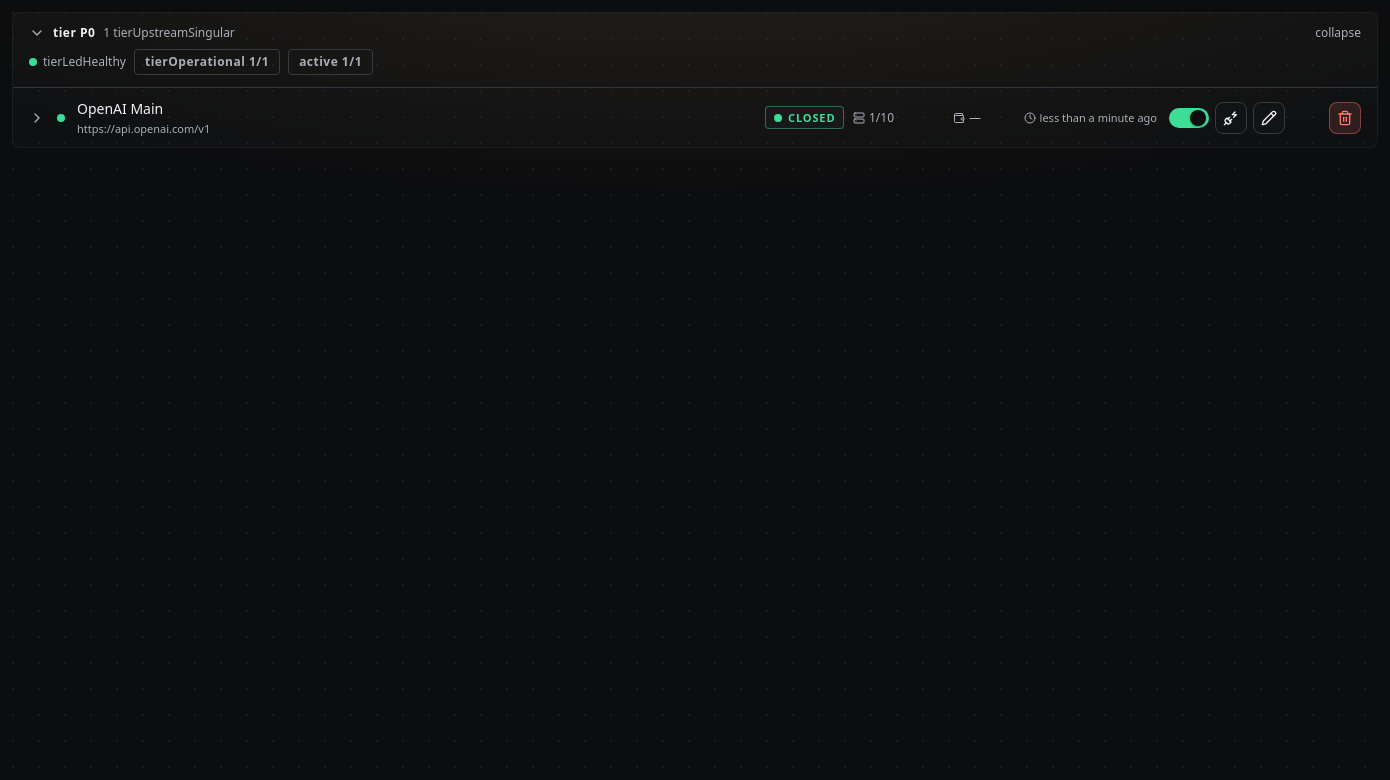
Test case: UpstreamsTable › renders tier group and compact row basics, revealing runtime status on expand
The image size is (1390, 780).
Expected: the text "tier P0" is shown, [53, 25, 95, 41]
Expected: the text "https://api.openai.com/v1" is shown, [77, 121, 210, 136]
What coordinates should you click on to do the following:
click the text "OpenAI Main"
I would click on:
 (120, 109)
Its box is [77, 99, 163, 118].
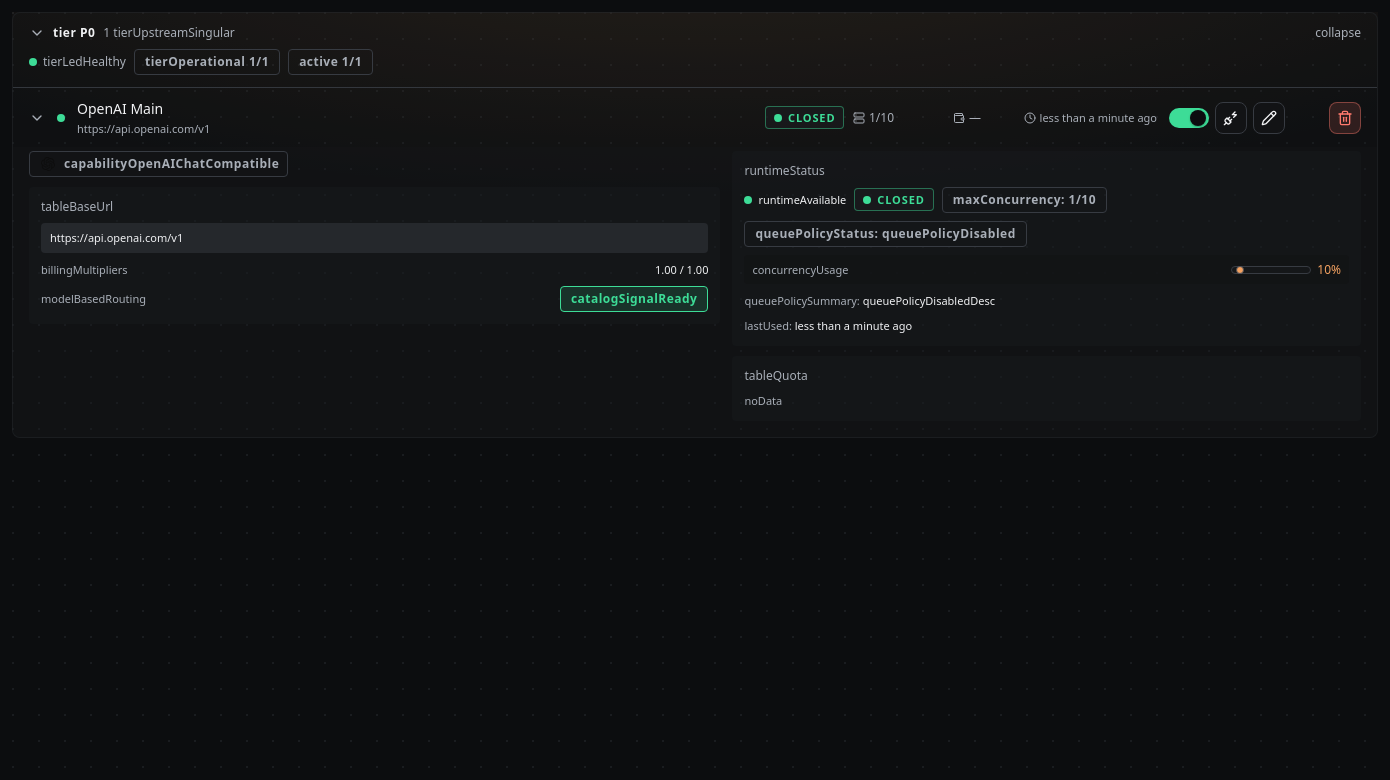
Now the text "runtimeStatus" is shown, box [744, 162, 825, 179]
